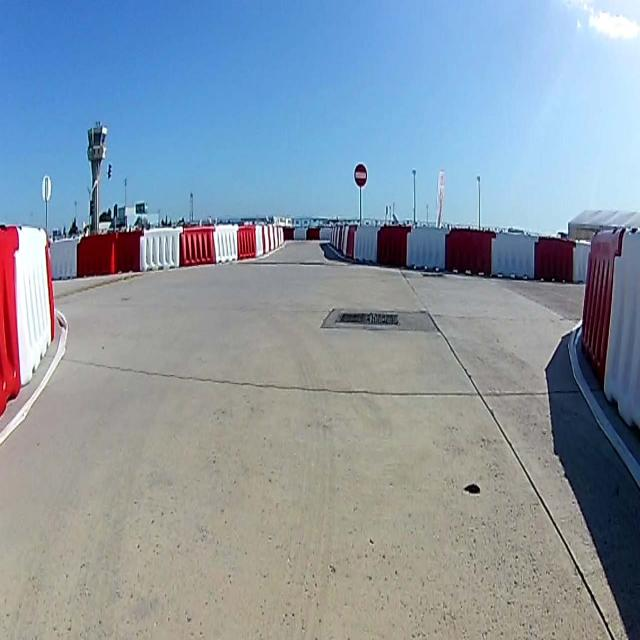girisyok: (353, 162, 367, 186)
